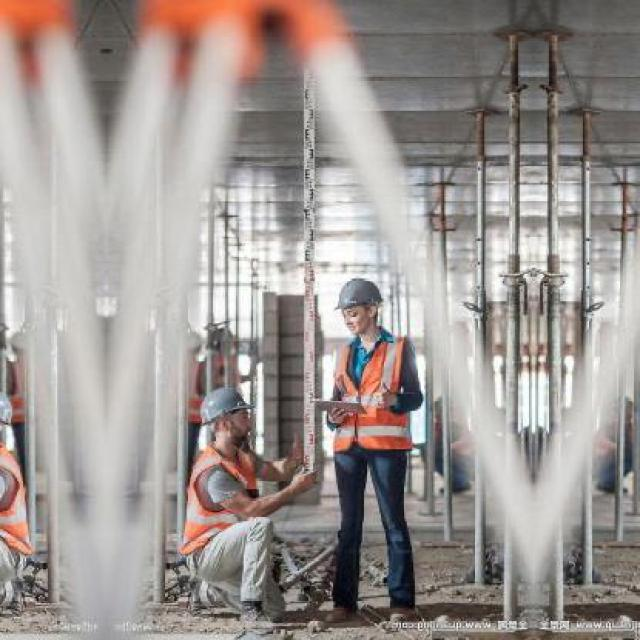Reflective-Jacket: (321, 329, 421, 457), (173, 442, 273, 558), (0, 434, 39, 557)
Safety-Helmet: (190, 380, 262, 431), (327, 272, 390, 317)
